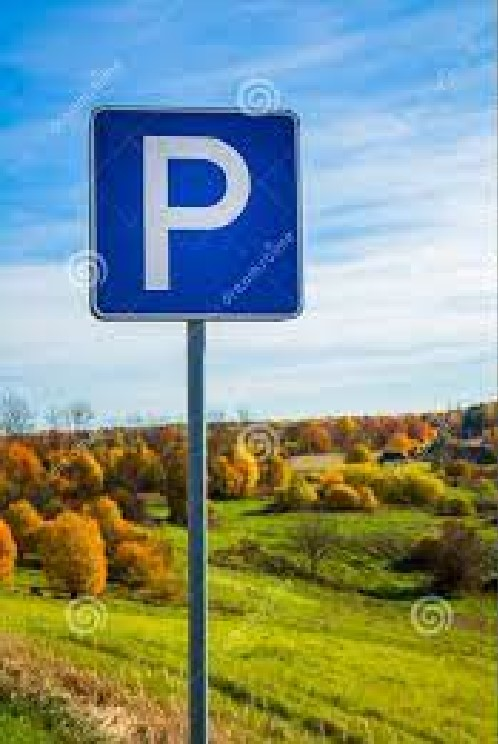Parking: (83, 104, 304, 325)
